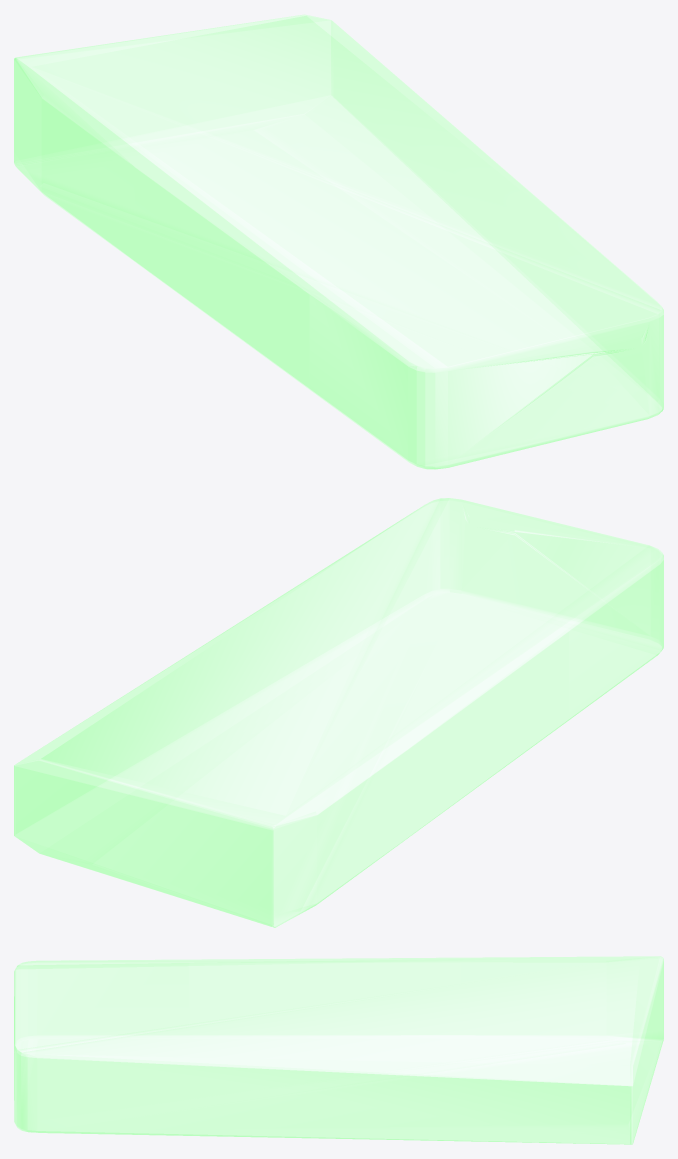
The model's file is ghost_gpu_final.glb.
The picture shows the model from 3 angles, top to bottom: view 1: azimuth 30°, elevation 25°; view 2: azimuth 150°, elevation 25°; view 3: azimuth 270°, elevation 25°; orthographic projection. The views are drawn at different scales.
Parts seen in each view (by area): view 1: GHOST_GPU; view 2: GHOST_GPU; view 3: GHOST_GPU.
Part boxes in pixels (<box>): GHOST_GPU: <box>14,14,663,469</box>; GHOST_GPU: <box>14,498,663,927</box>; GHOST_GPU: <box>14,956,663,1144</box>.
Size of the model in its own units: 0.1209 by 0.0413 by 0.2846.
